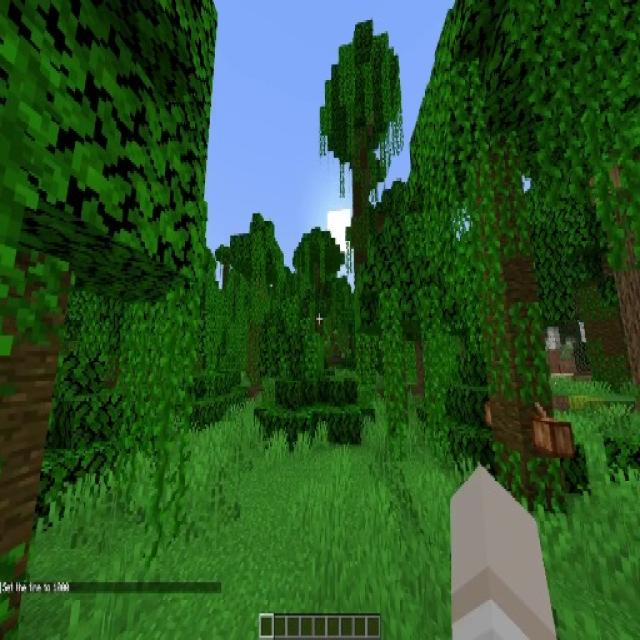jungle: (322, 16, 399, 288), (360, 210, 425, 460)
jungle_log: (460, 127, 554, 455), (0, 260, 77, 639)
